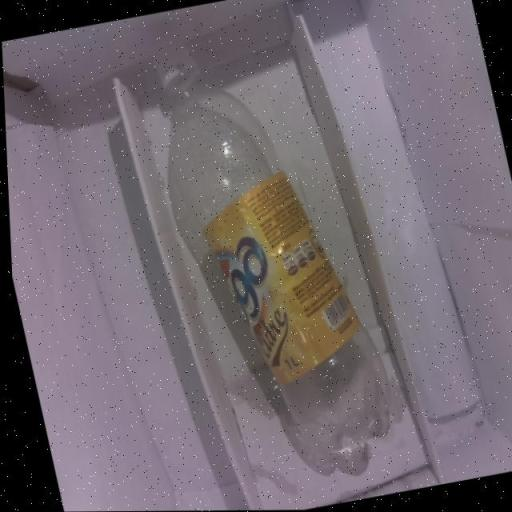plastic: (128, 4, 406, 497)
